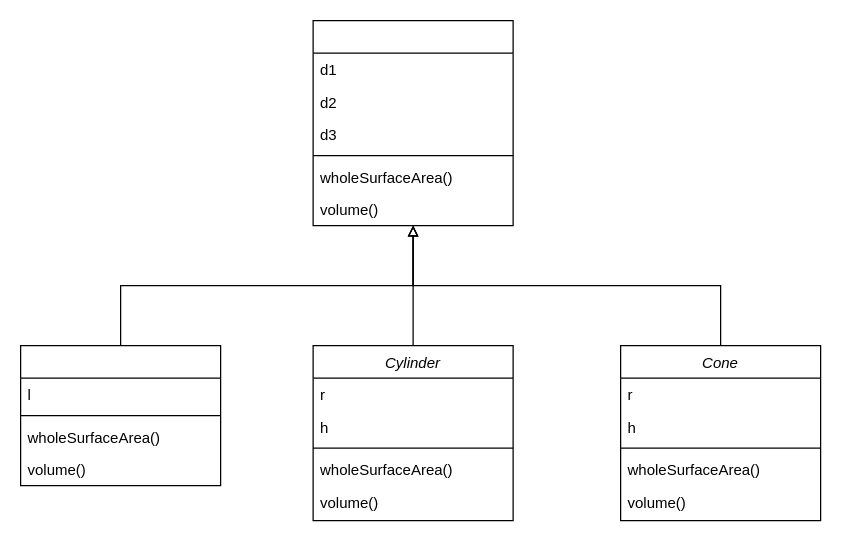
Image size: 841x541. Some labels were removed from this diagram. The shapes that lost their labels are listed below. From the top down, each one's box as (x1, y1, x2, y2) in pixels, then its label:
(312, 19, 513, 226): ThreeDObject
(19, 344, 221, 486): Cube
